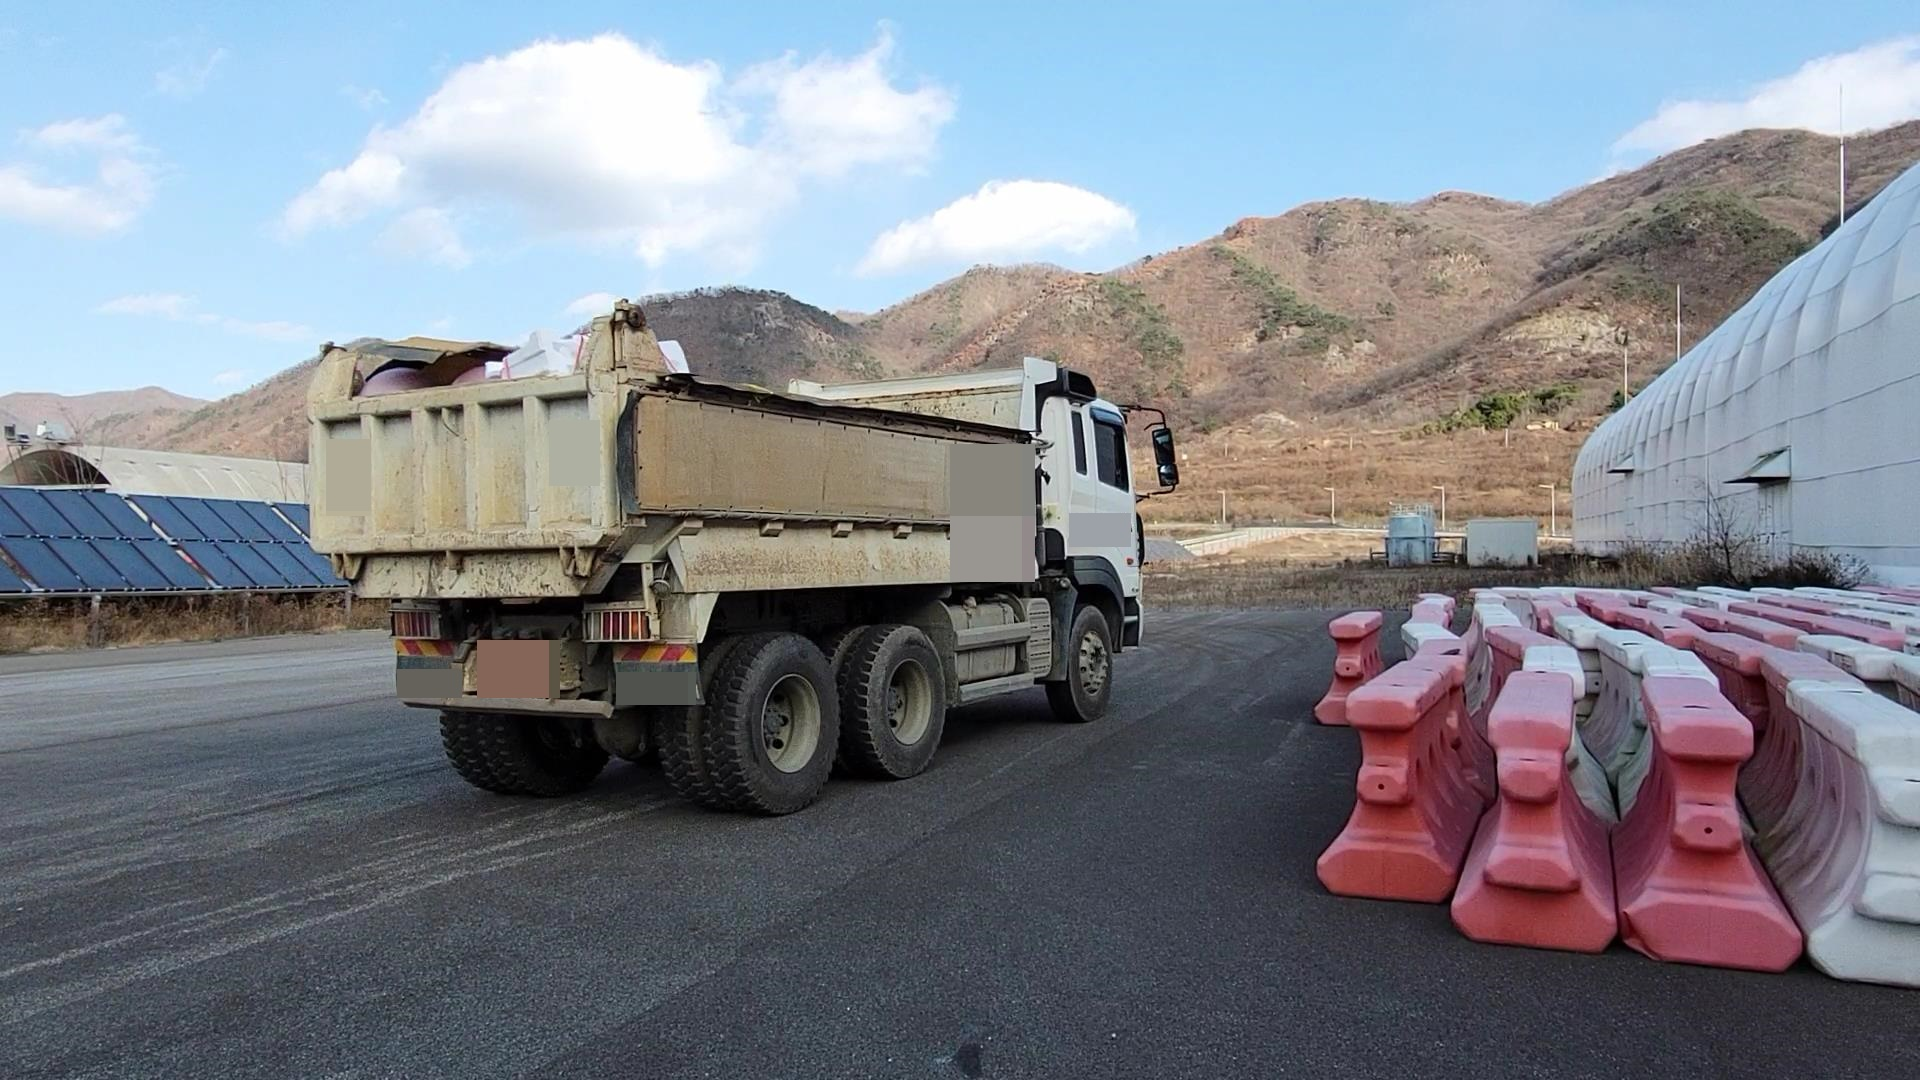불법차량: (306, 298, 1180, 815)
